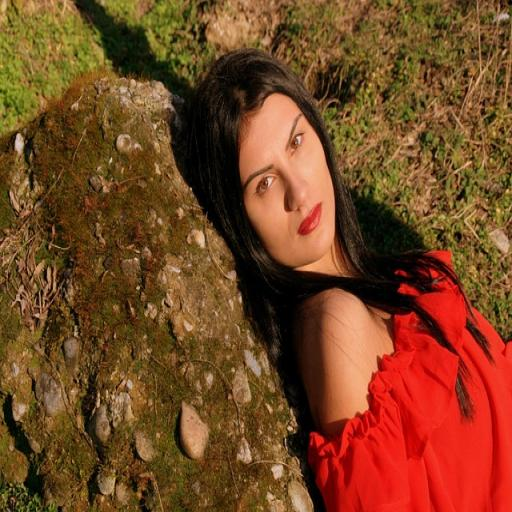lipstick: (299, 203, 321, 235)
